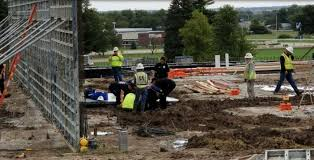helmet: (137, 63, 144, 70), (111, 46, 118, 52), (245, 53, 252, 59), (287, 46, 293, 53)
vest: (244, 63, 257, 82), (122, 94, 135, 110), (281, 55, 293, 71), (136, 75, 149, 88), (110, 56, 124, 68)
